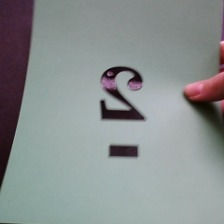green2: (98, 62, 151, 160)
